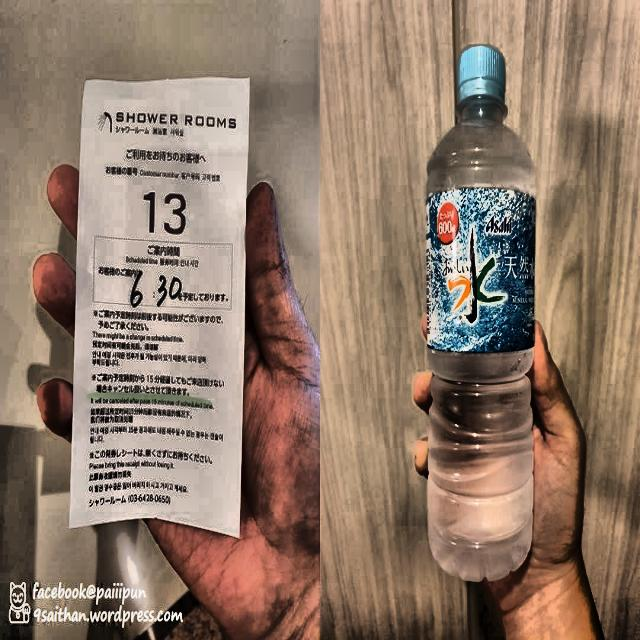Bottles: (411, 27, 542, 593)
